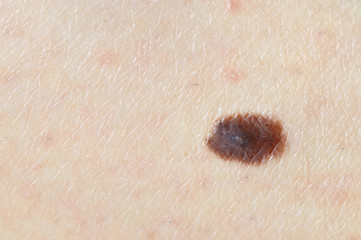melanoma: (188, 92, 297, 175)
